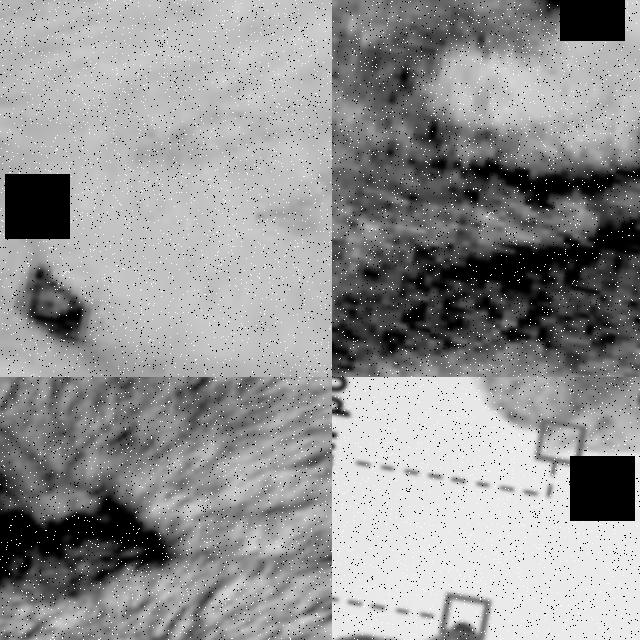wolf: (0, 0, 332, 377), (332, 0, 640, 377), (0, 377, 332, 640), (400, 377, 640, 520), (332, 570, 640, 640)
